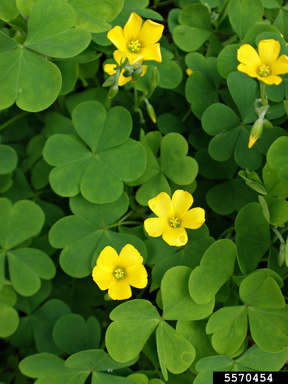oxalis: (191, 70, 288, 350), (97, 274, 218, 383), (59, 101, 144, 212), (3, 9, 90, 107), (1, 191, 50, 348)
